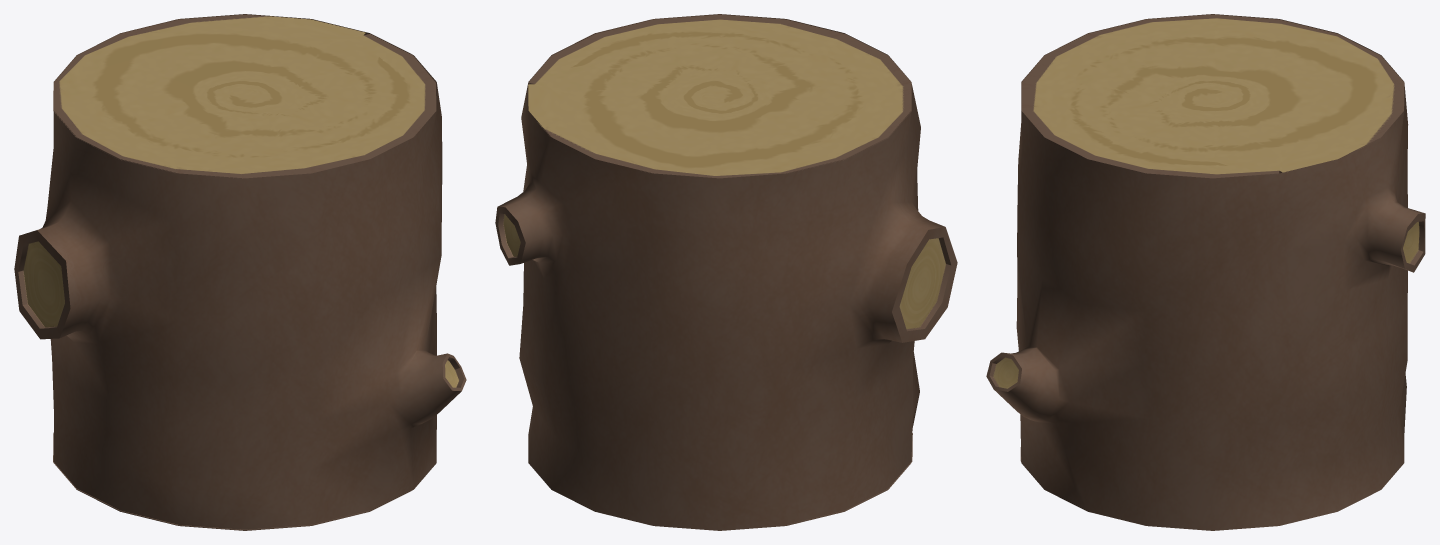
Rendered from 2WAY_WOOD.fbx.
3 views of the same model, side by side, from view 1: azimuth 30°, elevation 25°; view 2: azimuth 150°, elevation 25°; view 3: azimuth 270°, elevation 25° (orthographic).
Parts seen in each view (by area): view 1: 2WAY_WOOD, Log_Cap; view 2: 2WAY_WOOD, Log_Cap; view 3: 2WAY_WOOD, Log_Cap.
Boxes of the visible parts, box(x1,y1,x2,y2) form: 2WAY_WOOD: box(14, 14, 466, 530); Log_Cap: box(53, 14, 436, 178); 2WAY_WOOD: box(495, 14, 957, 530); Log_Cap: box(528, 14, 911, 178); 2WAY_WOOD: box(986, 14, 1425, 530); Log_Cap: box(1021, 14, 1404, 178).
Bounding box in the file's own units: 44.39 × 39.37 × 44.45.
